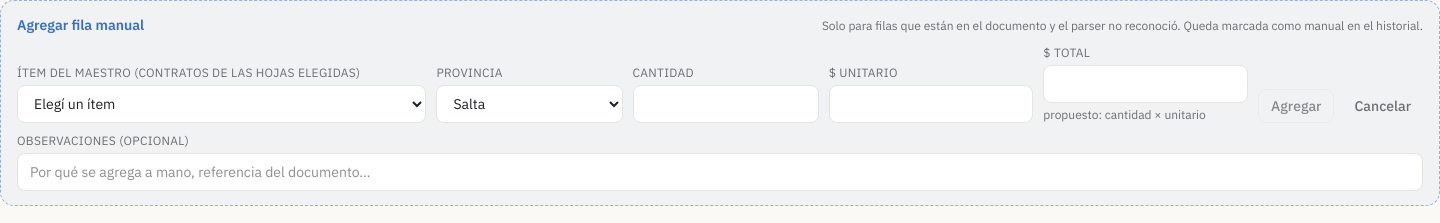
Test case: FilaManualForm › propone el total como cantidad × unitario con 2 decimales y recalcula al tipear cualquiera de los dos
Type "4" into the field labelled "Cantidad" at (726, 104), box [632,85,819,123]
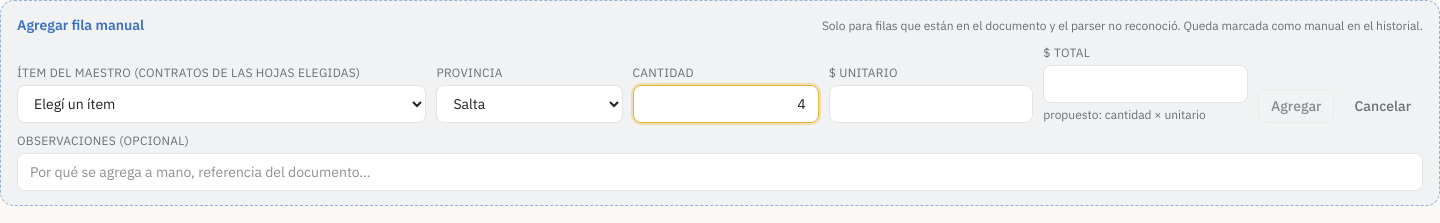
Type "15151,96" into the field labelled "$ Unitario" at (931, 104), box [829,85,1033,123]
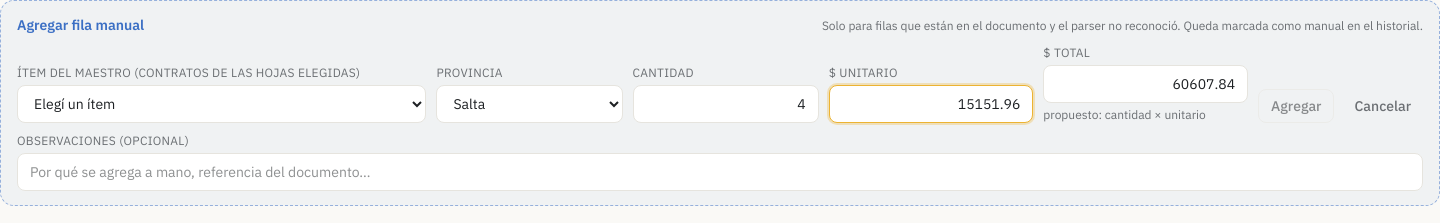
Expected: the field labelled "$ Total" holds "60607.84", [1043,65,1248,103]
Replace the text in the field labelled "Cantidad" with "2" at (726, 104), box [632,85,819,123]
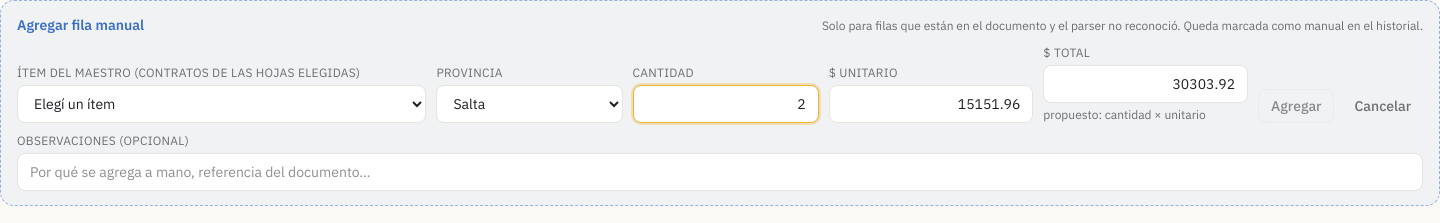
Expected: the field labelled "$ Total" holds "30303.92", [1043,65,1248,103]
